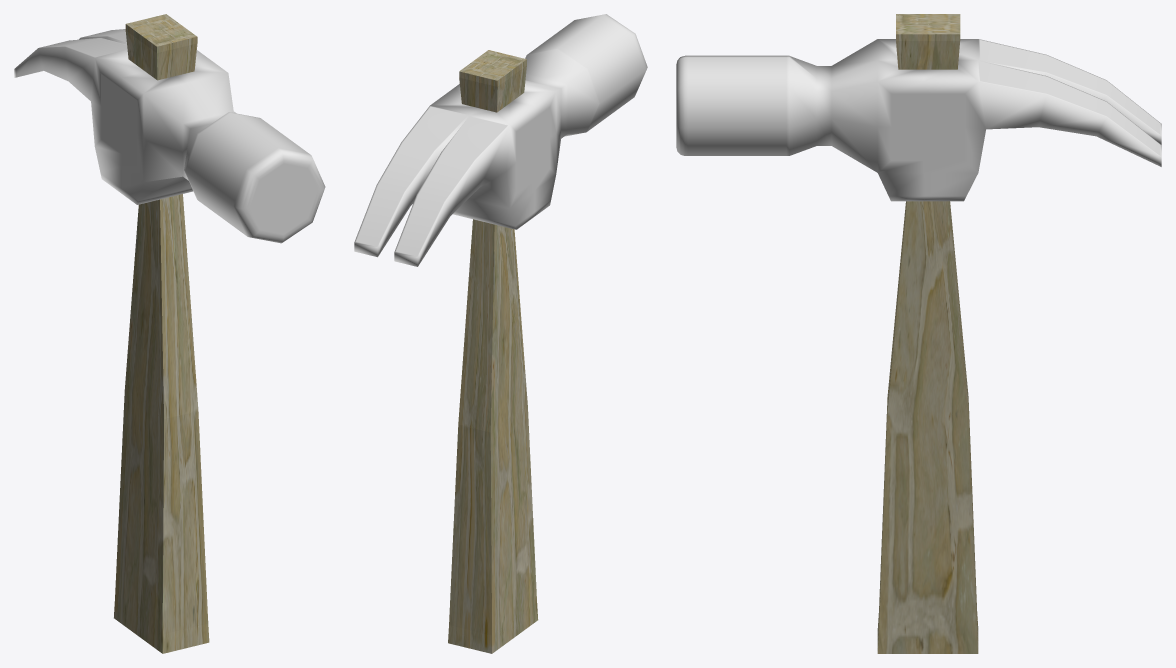
3 views of the same model, side by side, from view 1: azimuth 30°, elevation 25°; view 2: azimuth 150°, elevation 25°; view 3: azimuth 270°, elevation 25° (orthographic). The views are drawn at different scales.
Visible parts, largest first — view 1: 立方体.001, 立方体; view 2: 立方体.001, 立方体; view 3: 立方体, 立方体.001.
Part boxes in pixels (bbox=[...]): 立方体.001: bbox=[114, 14, 209, 653]; 立方体: bbox=[14, 29, 325, 243]; 立方体.001: bbox=[448, 50, 538, 653]; 立方体: bbox=[354, 14, 647, 266]; 立方体: bbox=[676, 39, 1161, 201]; 立方体.001: bbox=[877, 14, 978, 653].
Size of the model in its own units: 2.12 by 13.53 by 9.63.
Materials: 2 (1 with a texture image).
